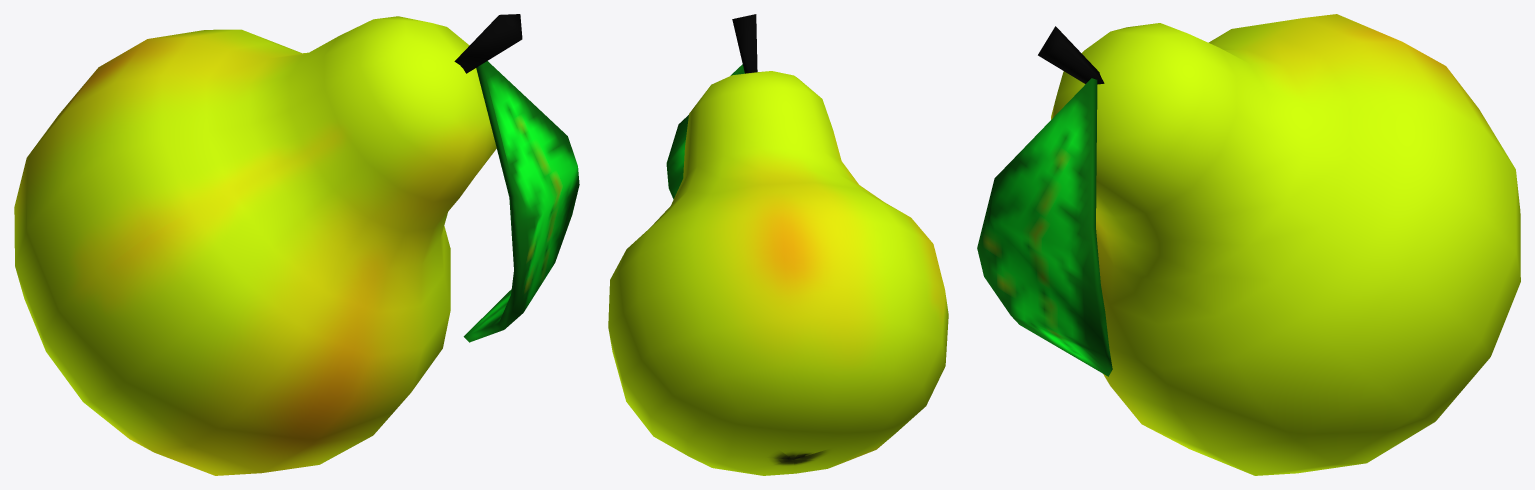
Rendered from grush_01.fbx.
3 renders of one model, left to right at view 1: azimuth 30°, elevation 25°; view 2: azimuth 150°, elevation 25°; view 3: azimuth 270°, elevation 25°, orthographic. The views are drawn at different scales.
Visible parts, largest first — view 1: Sphere; view 2: Sphere; view 3: Sphere.
Boxes of the visible parts, x1,y1,x2,y2 form: Sphere: (14,14,579,475); Sphere: (608,14,948,475); Sphere: (977,14,1520,475).
Bounding box in the file's own units: 182 × 190 × 189.
